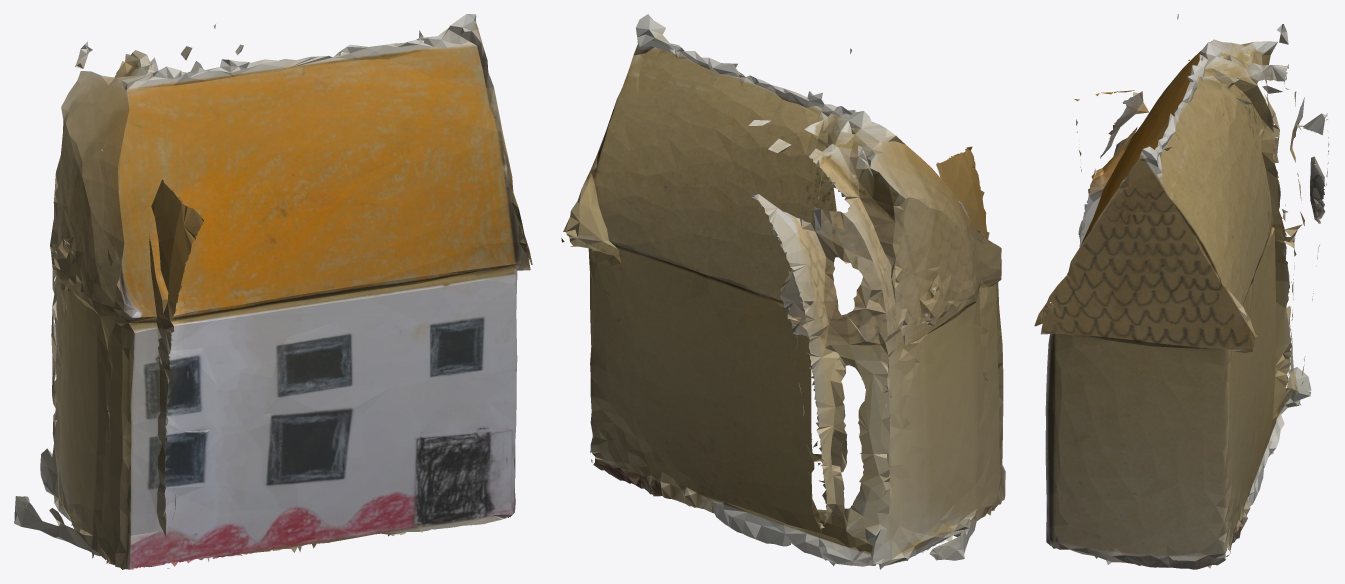
3 renders of one model, left to right at view 1: azimuth 30°, elevation 25°; view 2: azimuth 150°, elevation 25°; view 3: azimuth 270°, elevation 25°, orthographic. The views are drawn at different scales.
Parts seen in each view (by area): view 1: Object_0.001; view 2: Object_0.001; view 3: Object_0.001.
Boxes of the visible parts, x1,y1,x2,y2 form: Object_0.001: (14, 14, 532, 569); Object_0.001: (561, 14, 1005, 569); Object_0.001: (1034, 14, 1329, 569).
Bounding box in the file's own units: 20.18 × 22.9 × 13.49.
1 material, 1 textured.
